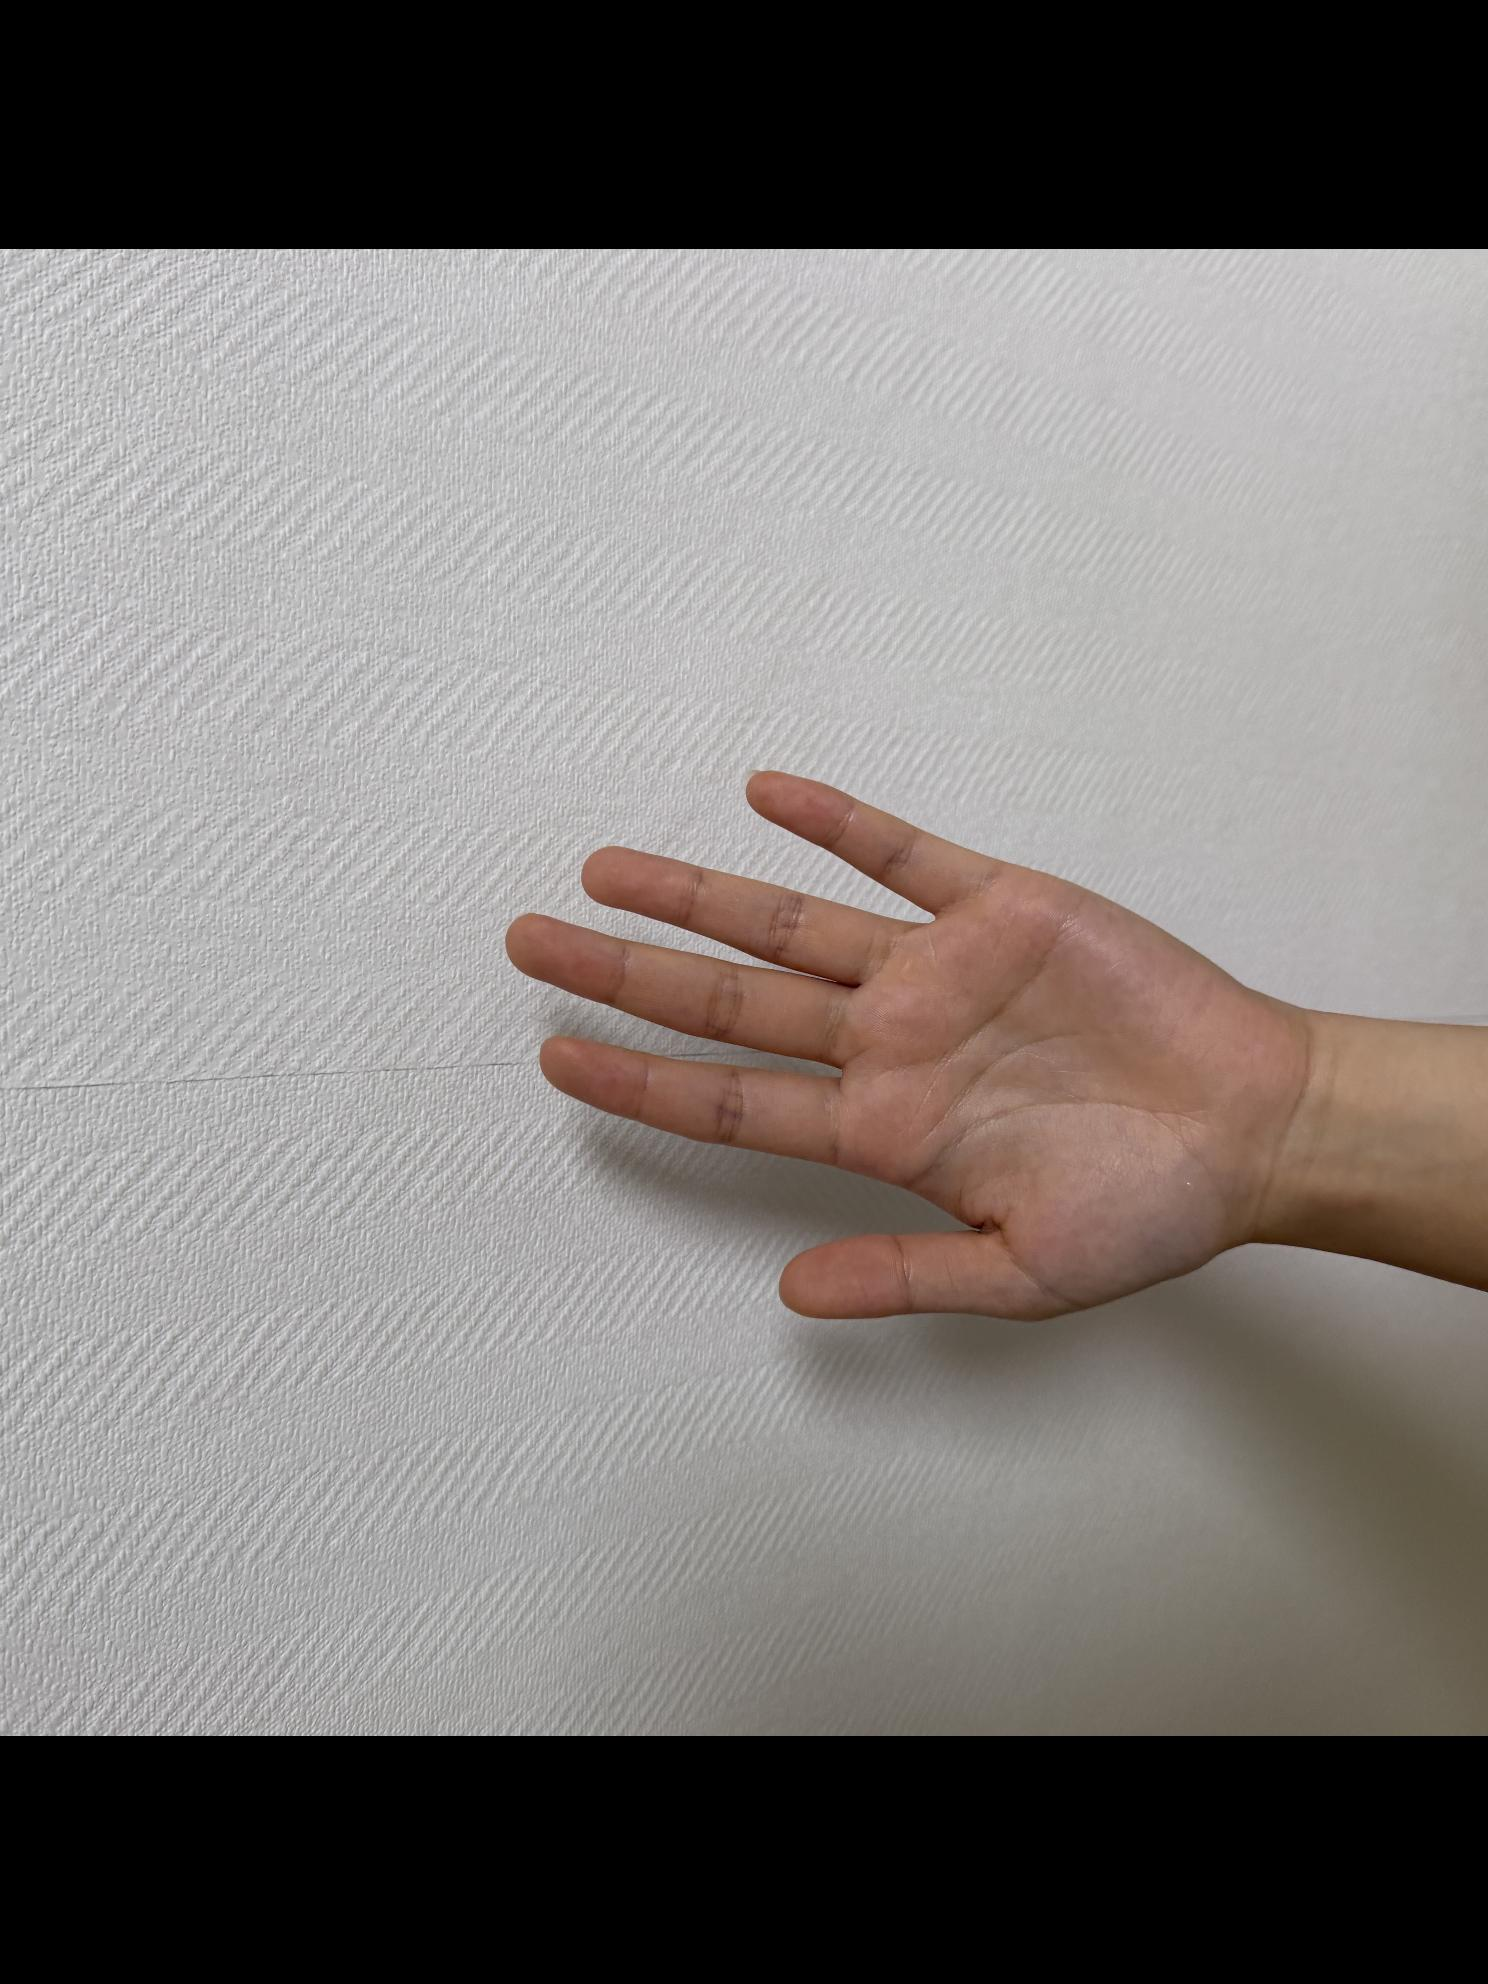open: (497, 747, 1335, 1353)
